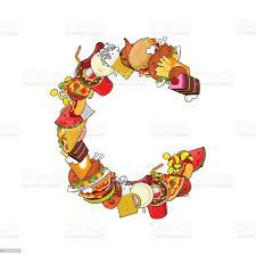c: (38, 38, 224, 222)
